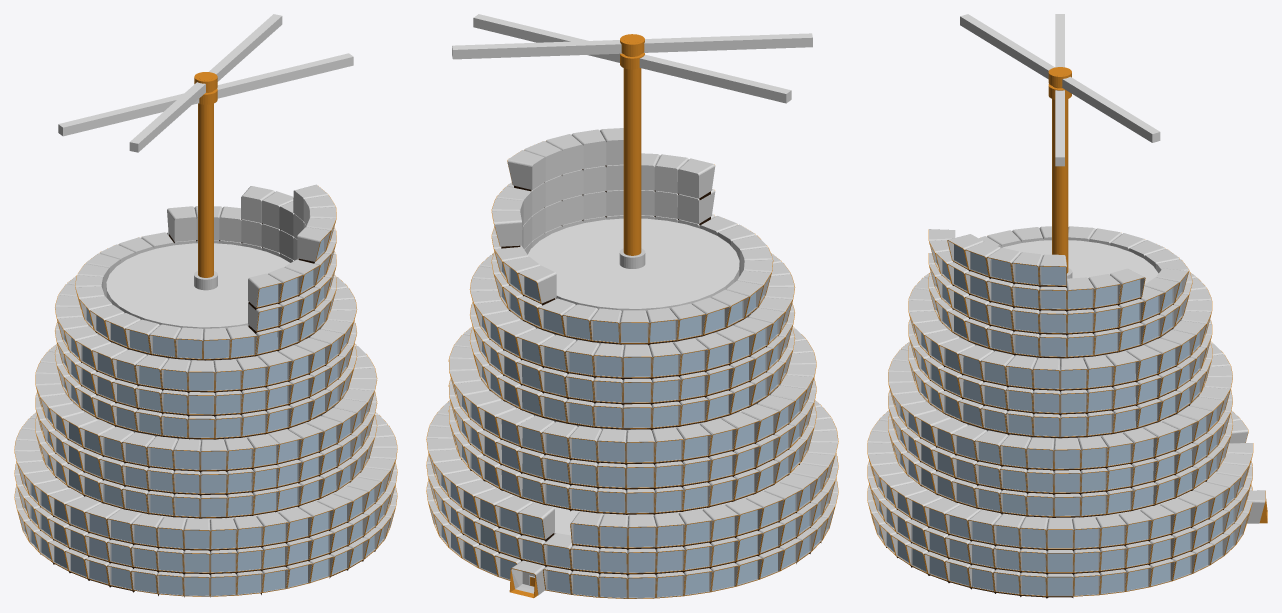
File: EnergyVault_02.fbx
The picture shows the model from 3 angles, left to right: view 1: azimuth 30°, elevation 25°; view 2: azimuth 150°, elevation 25°; view 3: azimuth 270°, elevation 25°; orthographic projection. The views are drawn at different scales.
Parts seen in each view (by area): view 1: VaultHouse_row2, VaultHouse_row3-3, VaultHouse_row1-2, VaultHouse_row4-1, VaultHouse_inside-Floors, VaultHouse_LOD0, Crane-Arm-1, VaultHouse_Crane, Crane-Arm-2, VaultHouse_Moving; view 2: VaultHouse_row2, VaultHouse_row3-3, VaultHouse_row4-1, VaultHouse_row1-2, VaultHouse_inside-Floors, VaultHouse_LOD0, Crane-Arm-2, VaultHouse_Crane, Crane-Arm-1, VaultHouse_Moving; view 3: VaultHouse_row2, VaultHouse_row3-3, VaultHouse_row4-1, VaultHouse_row1-2, VaultHouse_LOD0, VaultHouse_inside-Floors, Crane-Arm-2, VaultHouse_Crane, Crane-Arm-1, VaultHouse_Moving.
Boxes of the visible parts, x1,y1,x2,y2 form: VaultHouse_row2: (35,343,377,518); VaultHouse_row3-3: (54,275,357,439); VaultHouse_row1-2: (14,412,397,574); VaultHouse_row4-1: (75,184,336,360); VaultHouse_inside-Floors: (43,243,367,519); VaultHouse_LOD0: (14,484,397,597); Crane-Arm-1: (58,53,353,136); VaultHouse_Crane: (194,73,217,290); Crane-Arm-2: (129,14,282,152); VaultHouse_Moving: (241,186,274,223); VaultHouse_row2: (448,326,816,514); VaultHouse_row3-3: (469,253,795,430); VaultHouse_row4-1: (491,128,773,345); VaultHouse_row1-2: (426,400,838,575); VaultHouse_inside-Floors: (458,218,806,535); VaultHouse_LOD0: (426,478,838,598); Crane-Arm-2: (452,33,812,59); VaultHouse_Crane: (619,35,645,268); Crane-Arm-1: (473,14,791,103); VaultHouse_Moving: (491,211,521,248); VaultHouse_row2: (888,341,1232,517); VaultHouse_row3-3: (908,272,1212,438); VaultHouse_row4-1: (928,226,1192,358); VaultHouse_row1-2: (867,410,1253,574); VaultHouse_LOD0: (867,484,1267,598); VaultHouse_inside-Floors: (897,240,1223,518); Crane-Arm-2: (960,14,1160,142); VaultHouse_Crane: (1052,68,1072,278); Crane-Arm-1: (1055,14,1064,166); VaultHouse_Moving: (1110,268,1145,304).
Size of what is drawn, in the model's own units: 3014 by 3866 by 3127.
